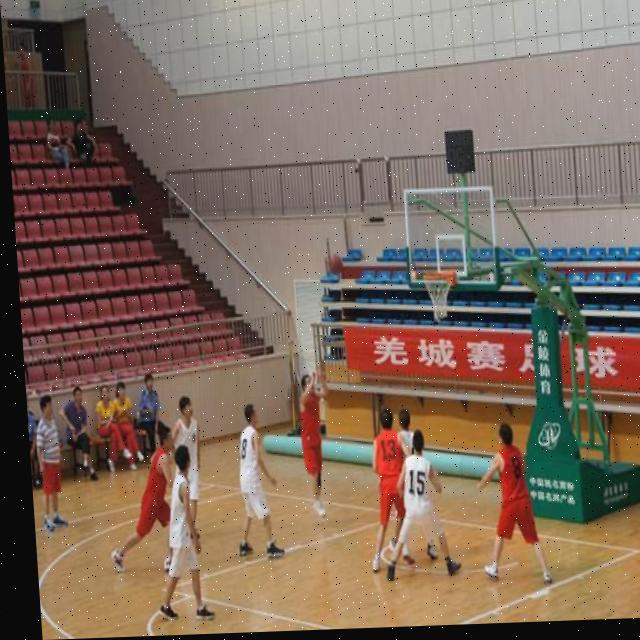basketball: (328, 254, 344, 277)
hoop: (422, 270, 458, 321)
